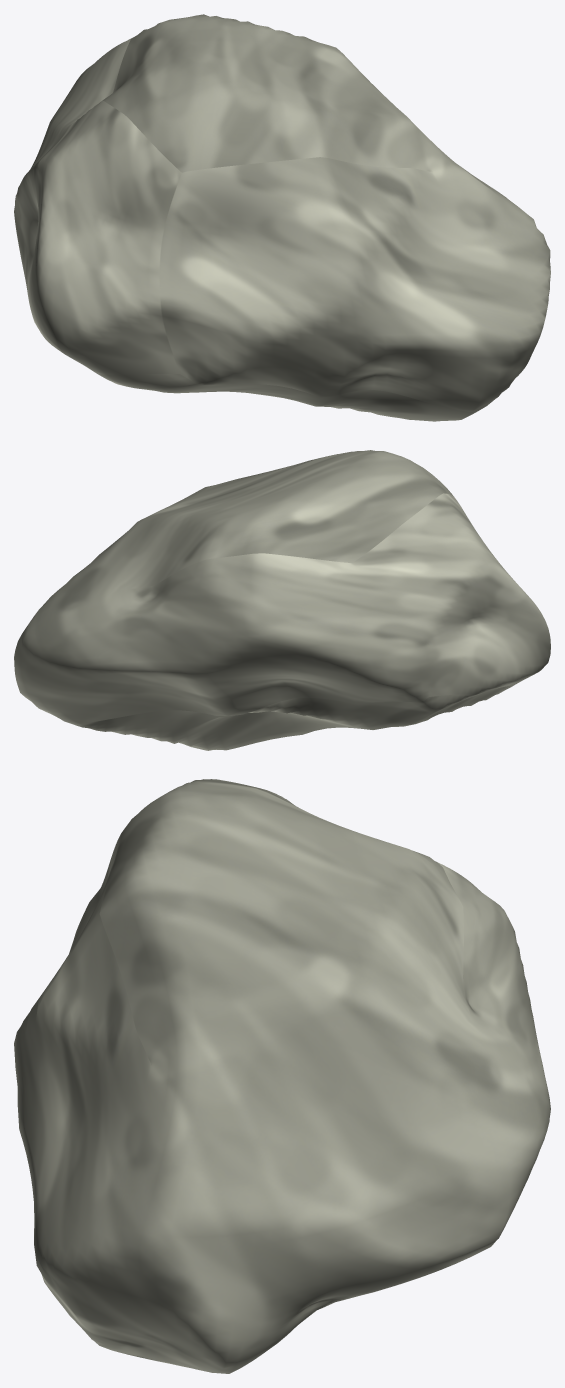
The model's file is Rock7.fbx.
The picture shows the model from 3 angles, top to bottom: view 1: azimuth 30°, elevation 25°; view 2: azimuth 150°, elevation 25°; view 3: azimuth 270°, elevation 25°; orthographic projection. The views are drawn at different scales.
Parts seen in each view (by area): view 1: Cube.007; view 2: Cube.007; view 3: Cube.007.
Boxes of the visible parts, x1,y1,x2,y2 form: Cube.007: (14, 14, 550, 421); Cube.007: (14, 450, 550, 750); Cube.007: (14, 779, 550, 1373).
Bounding box in the file's own units: 243 × 173 × 190.
1 material, 1 textured.
